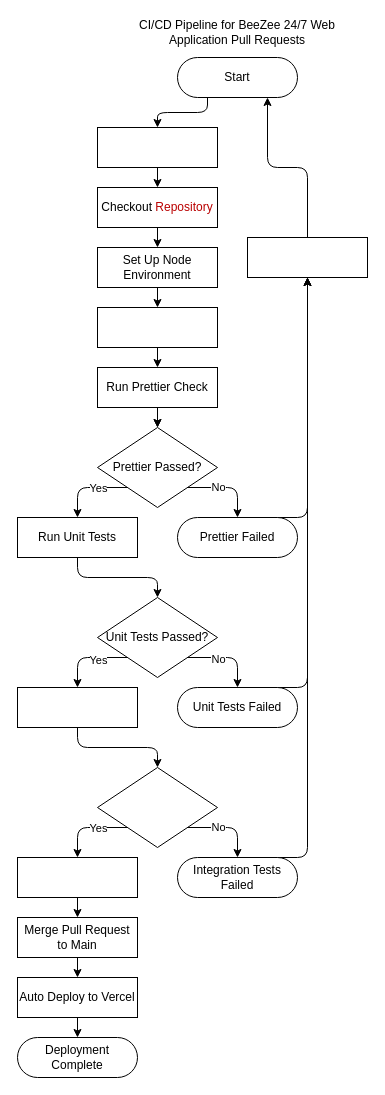
Image size: 385x1095. Some labels were removed from this diagram. Each missing label, with the box of its shape:
Developer fixes code and repushes: (246, 236, 368, 278)
GitHub Actions Triggered: (96, 126, 218, 168)
Install Prettier Dependencies: (96, 306, 218, 348)
Integration Tests Passed?: (96, 766, 218, 848)
Pull Request Approval Required: (16, 856, 138, 898)
Run Integration or End to End Tests: (16, 686, 138, 728)
